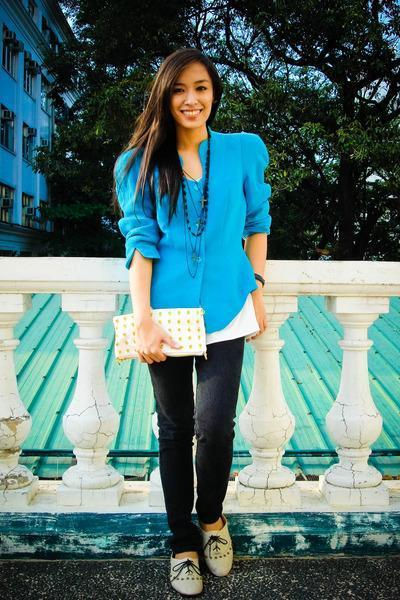bag: (113, 308, 211, 372)
pants: (148, 336, 244, 549)
shirt: (114, 132, 272, 342)
shoe: (170, 518, 232, 594)
